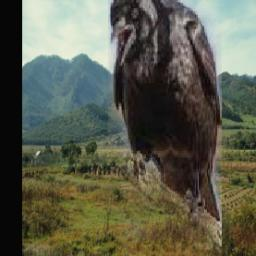Crow: (109, 0, 223, 256)
